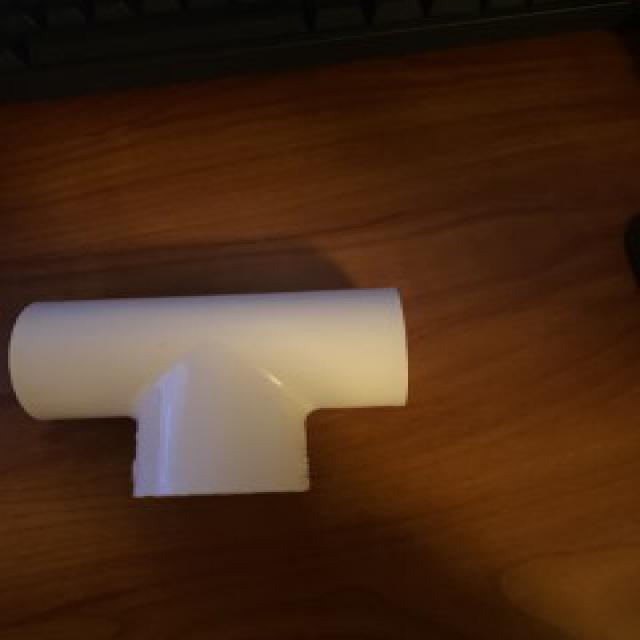T Joint: (6, 287, 410, 501)
